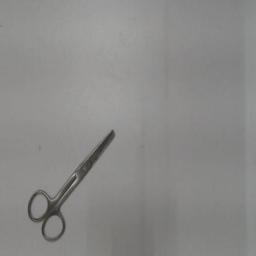Dressing Scissors: (22, 120, 124, 248)
